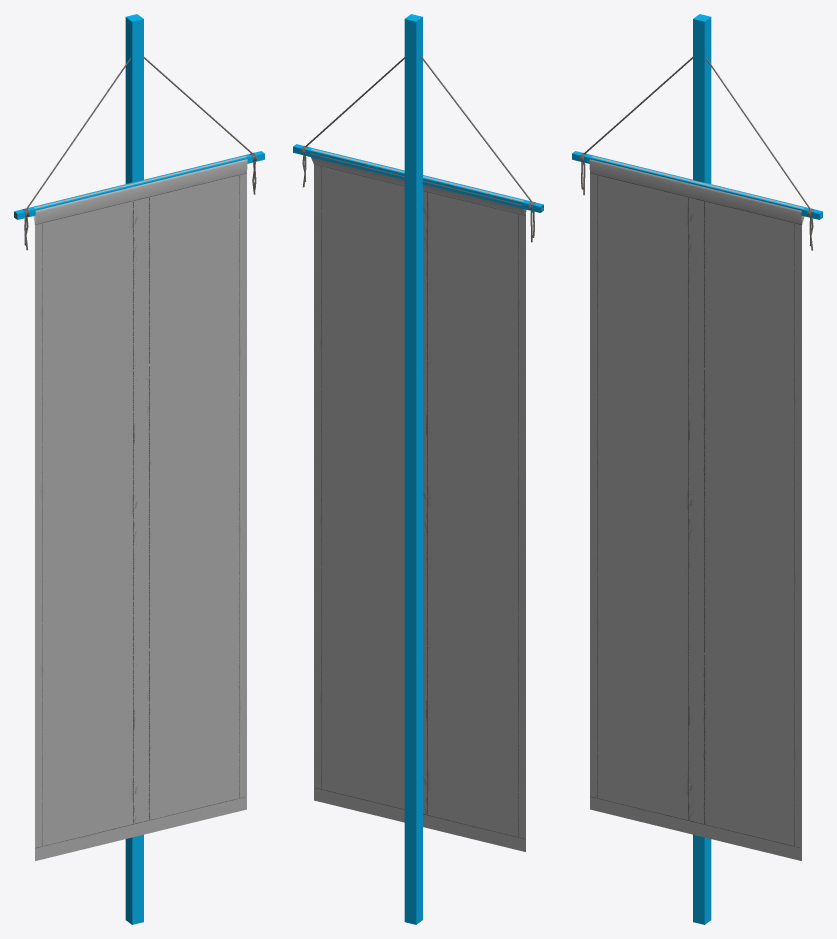
Rendered from JWC_Flag_A_01.fbx.
3 views of the same model, side by side, from view 1: azimuth 30°, elevation 25°; view 2: azimuth 150°, elevation 25°; view 3: azimuth 330°, elevation 25° (orthographic).
Visible parts, largest first — view 1: JWC_Flag_A_01, C_JWC_Flag_A_01, C_JWC_Flag_A_01_001; view 2: JWC_Flag_A_01, C_JWC_Flag_A_01, C_JWC_Flag_A_01_001; view 3: JWC_Flag_A_01, C_JWC_Flag_A_01, C_JWC_Flag_A_01_001.
Boxes of the visible parts, x1,y1,x2,y2 form: JWC_Flag_A_01: (14,57,256,860); C_JWC_Flag_A_01: (125,14,143,924); C_JWC_Flag_A_01_001: (14,151,264,219); JWC_Flag_A_01: (301,55,543,851); C_JWC_Flag_A_01: (404,14,422,924); C_JWC_Flag_A_01_001: (293,144,543,212); JWC_Flag_A_01: (579,57,821,860); C_JWC_Flag_A_01: (693,14,711,924); C_JWC_Flag_A_01_001: (572,151,822,219).
Bounding box in the file's own units: 0.8602 × 3 × 0.0627.
